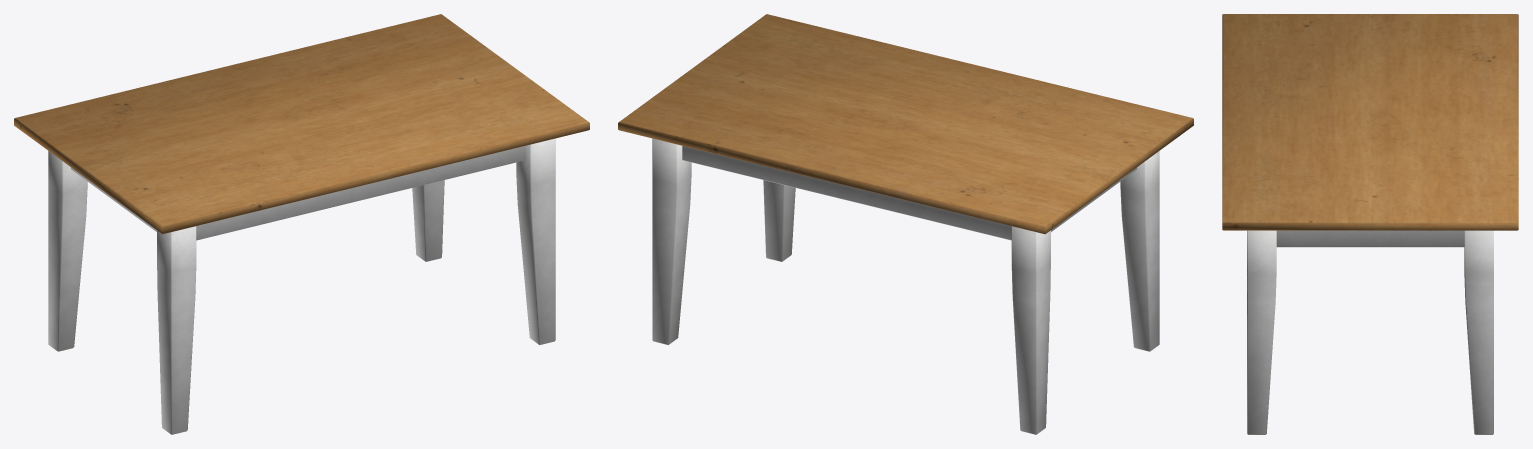
Rendered from home-table8.glb.
3 views of the same model, side by side, from view 1: azimuth 30°, elevation 25°; view 2: azimuth 150°, elevation 25°; view 3: azimuth 270°, elevation 25° (orthographic).
Visible parts, largest first — view 1: Plane; view 2: Plane; view 3: Plane.
Part boxes in pixels (x1,y1,x2,y2): Plane: (14, 14, 589, 434); Plane: (618, 14, 1193, 434); Plane: (1222, 14, 1518, 434).
Bounding box in the file's own units: 1.86 × 0.9302 × 1.12.
1 material, 1 textured.
